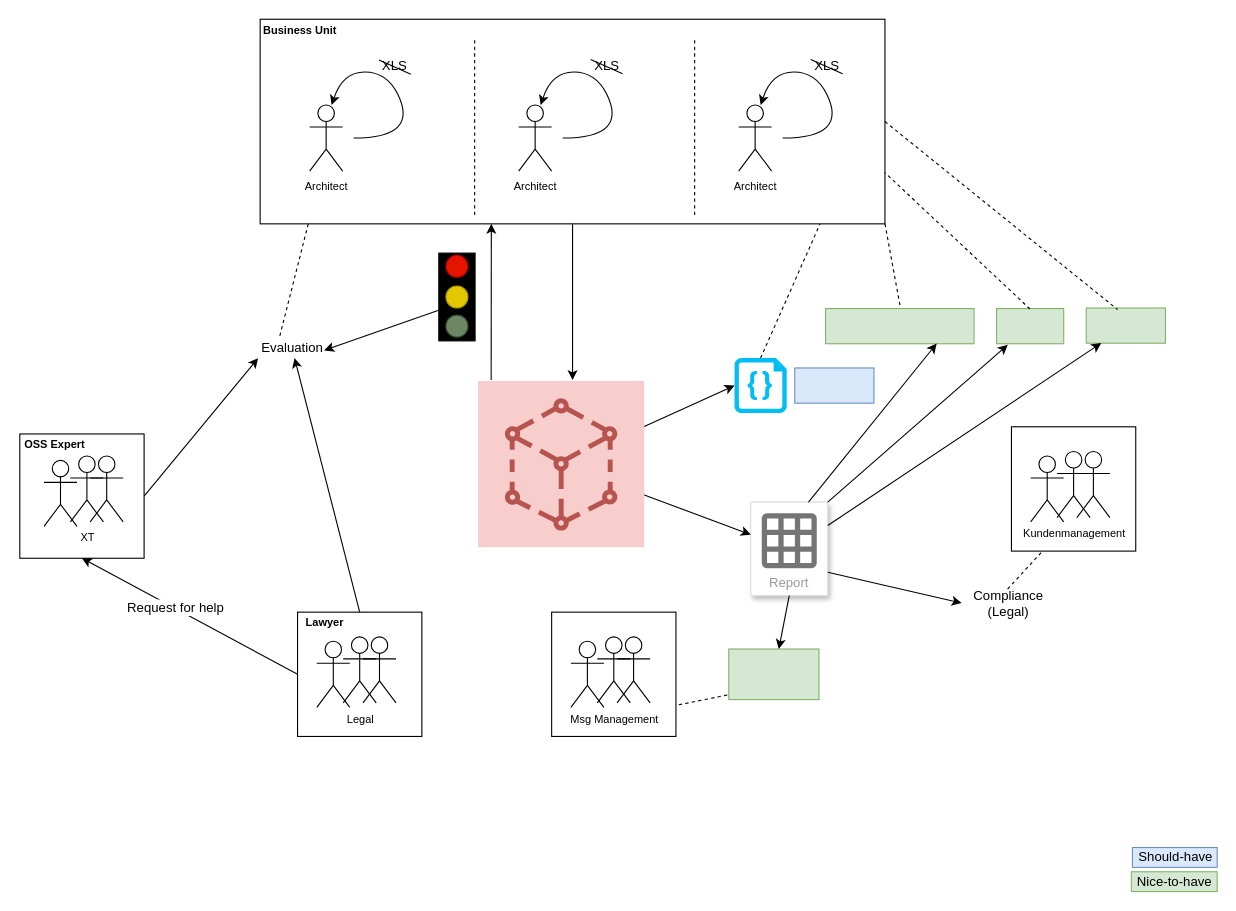
This 1236x911 diagram has some shape labels left out. The shapes that lost their labels are listed below. From the top down, each one's centre as x and y in pixels, then its label:
the point at 899,325: Statistic (Best of breed) Walking Skeleton
the point at 1030,325: NVD (Security)
the point at 1125,325: Component UpToDate
the point at 834,385: Satisfaction of burdens
the point at 773,674: Statistic Contribution (Sponsoring)
